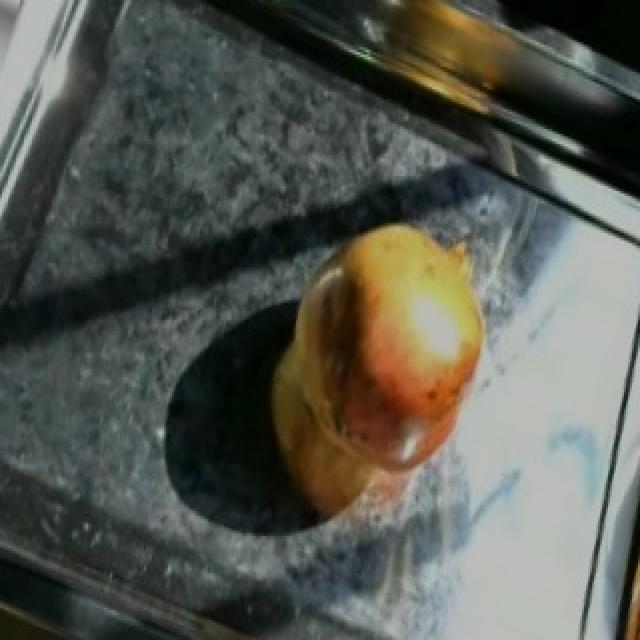fruit: (252, 198, 522, 504)
